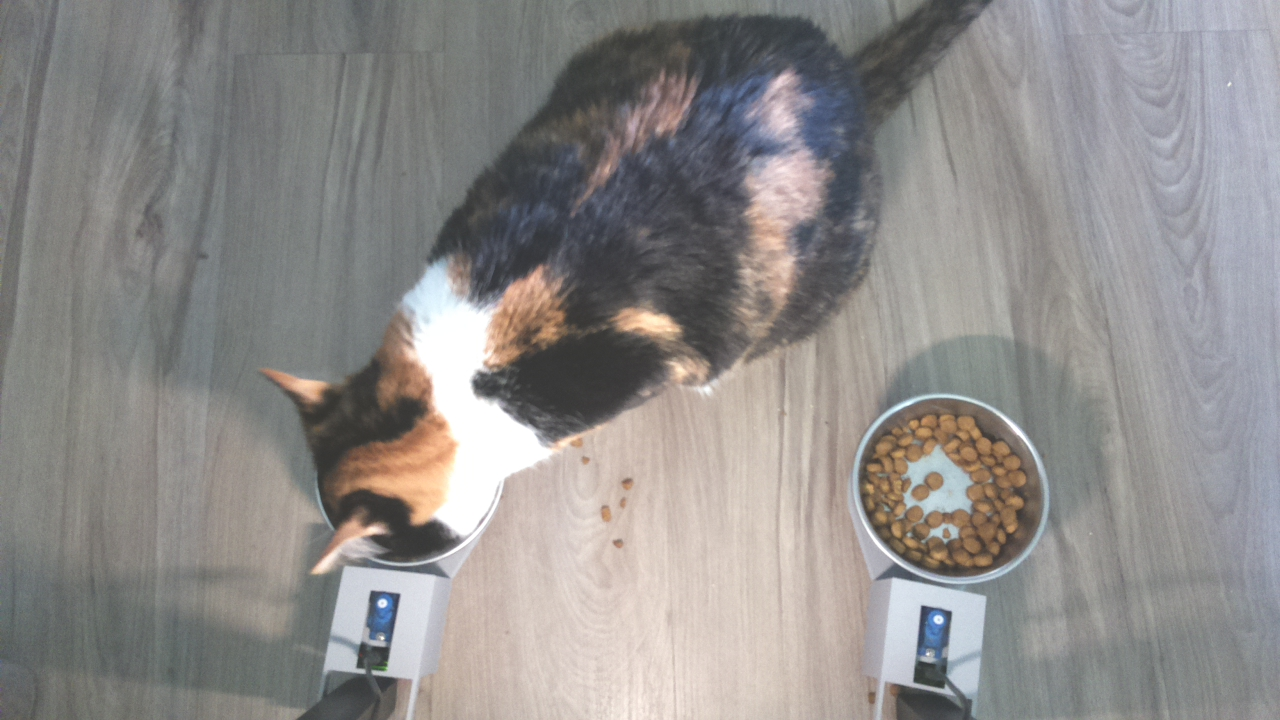bella_eating: (255, 273, 515, 580)
open_bowl: (849, 386, 1051, 592)
